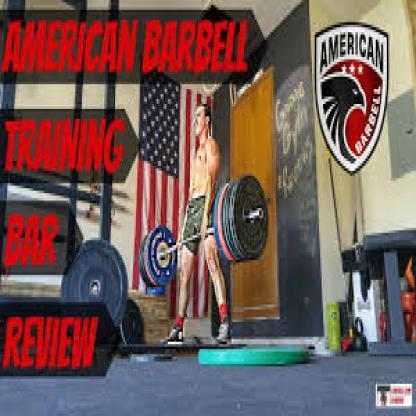barbell: (140, 176, 270, 290)
